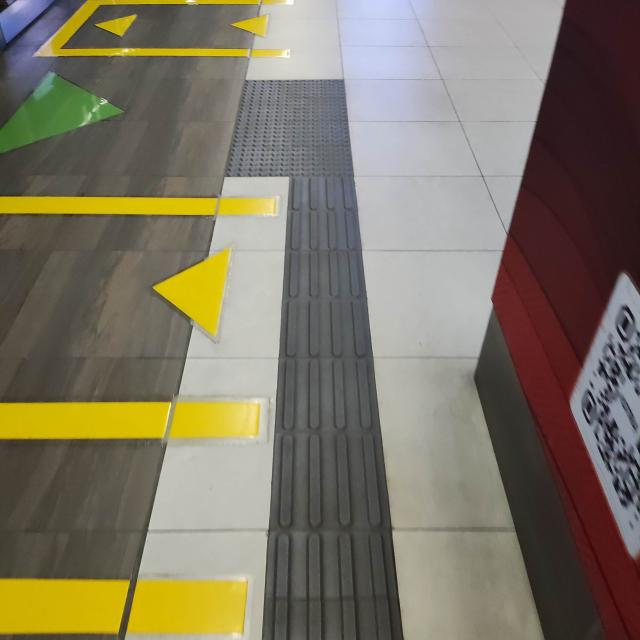lurus: (258, 170, 394, 640)
